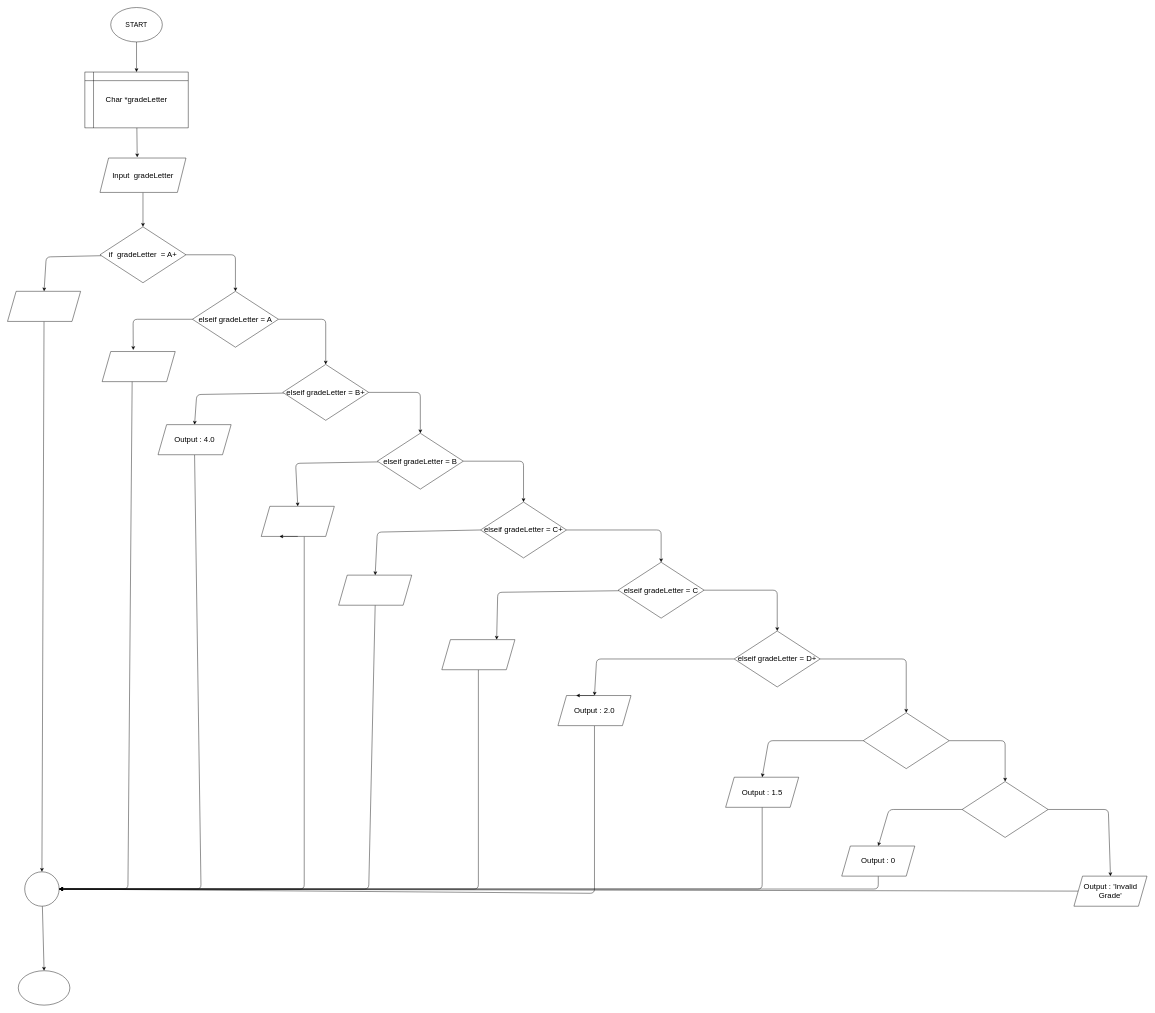
Some shapes in this 1155 by 1013 pixel diagram are drawn without their labels. Here are the shapes that lost their labels. From the top down, the centre of each, then its label:
the point at 44,306: Output : 5.0
the point at 138,366: Output : 4.5
the point at 297,521: Output : 3.5
the point at 375,590: Output : 3.0
the point at 478,654: Output : 2.5
the point at 906,740: elseif gradeLetter = D
the point at 1005,809: elseif gradeLetter = F
the point at 44,987: END
